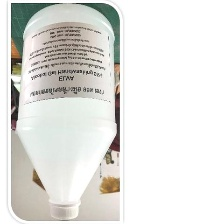cleaning_solution: (11, 0, 119, 221)
